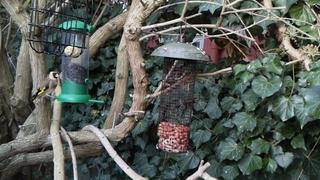goldfinch: (29, 70, 60, 102)
